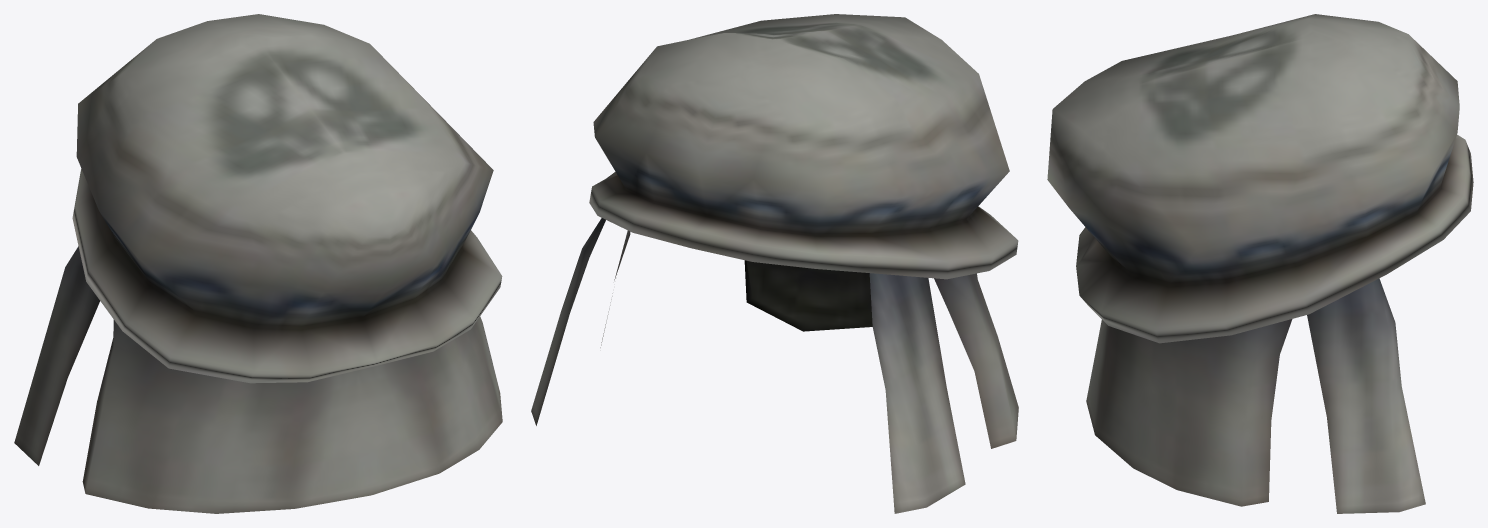
Rendered from infantryHatR.glb.
3 views of the same model, side by side, from view 1: azimuth 30°, elevation 25°; view 2: azimuth 150°, elevation 25°; view 3: azimuth 270°, elevation 25° (orthographic).
Visible parts, largest first — view 1: infantryHatR; view 2: infantryHatR; view 3: infantryHatR.
Part boxes in pixels (left/top/right/bottom): infantryHatR: left=14, top=14, right=502, bottom=513; infantryHatR: left=531, top=14, right=1018, bottom=513; infantryHatR: left=1047, top=14, right=1473, bottom=513.
Bounding box in the file's own units: 0.3678 × 0.3296 × 0.333.
1 material, 1 textured.
